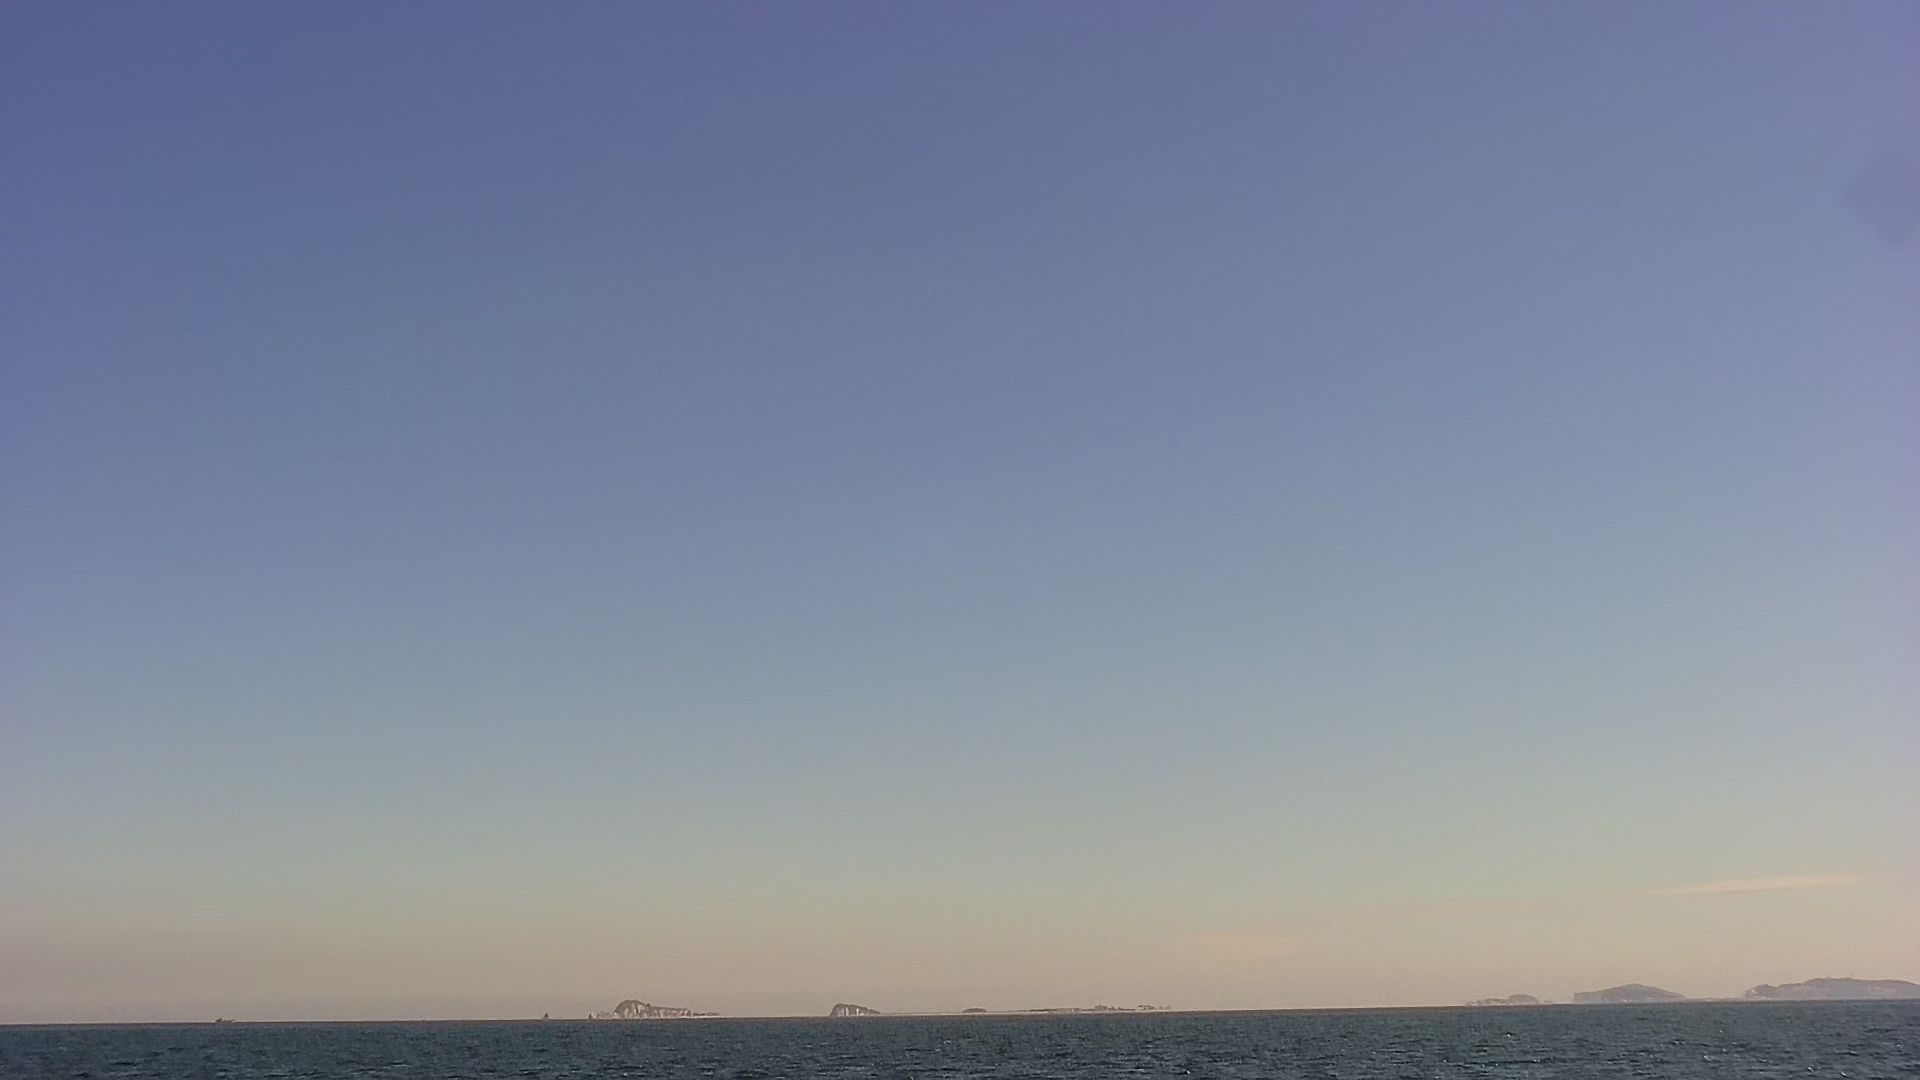rock: (963, 994, 1189, 1018), (1571, 978, 1698, 1004), (582, 998, 723, 1019), (1743, 978, 1920, 994), (822, 985, 886, 1022), (1457, 986, 1557, 1010)
